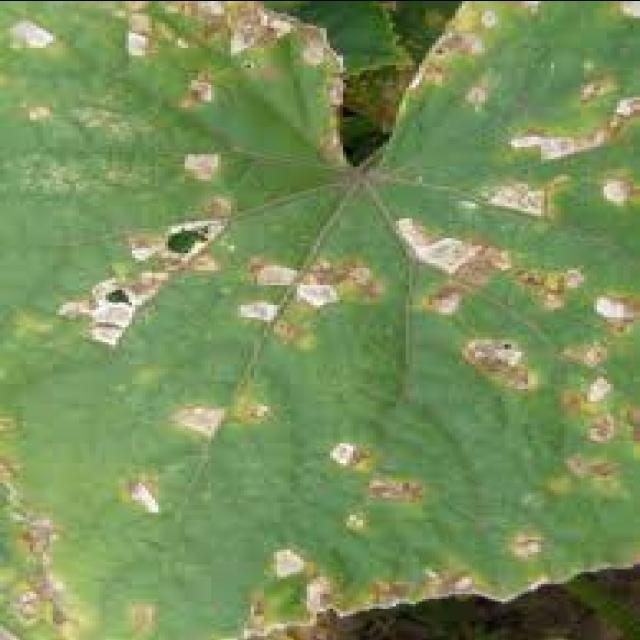bercak_daun: (391, 70, 633, 388)
